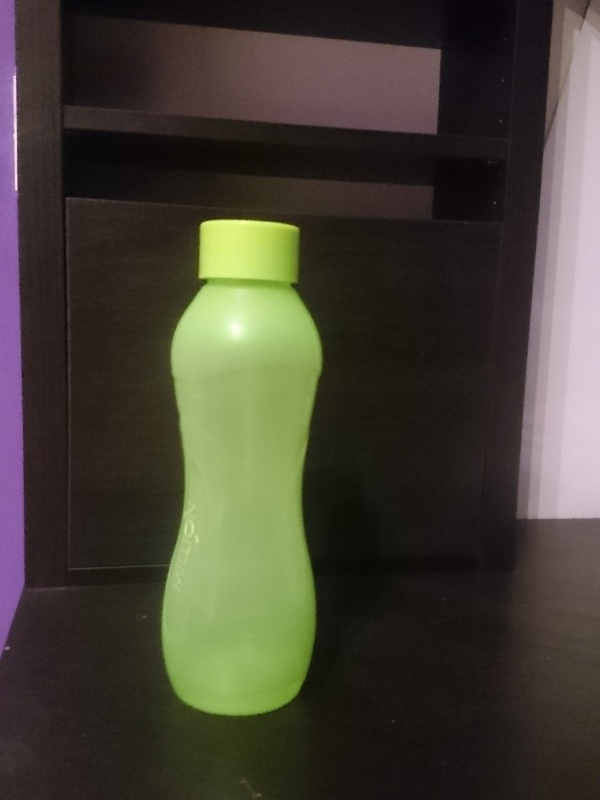my bottle: (158, 218, 324, 715)
